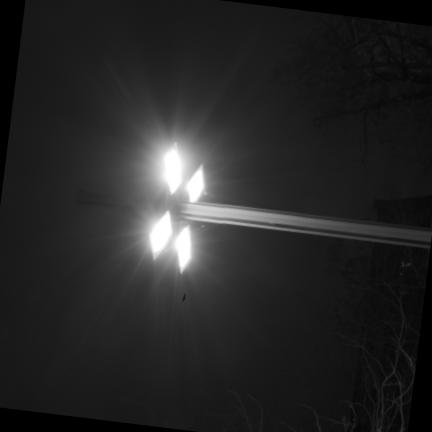Shahed: (182, 292, 185, 300)
